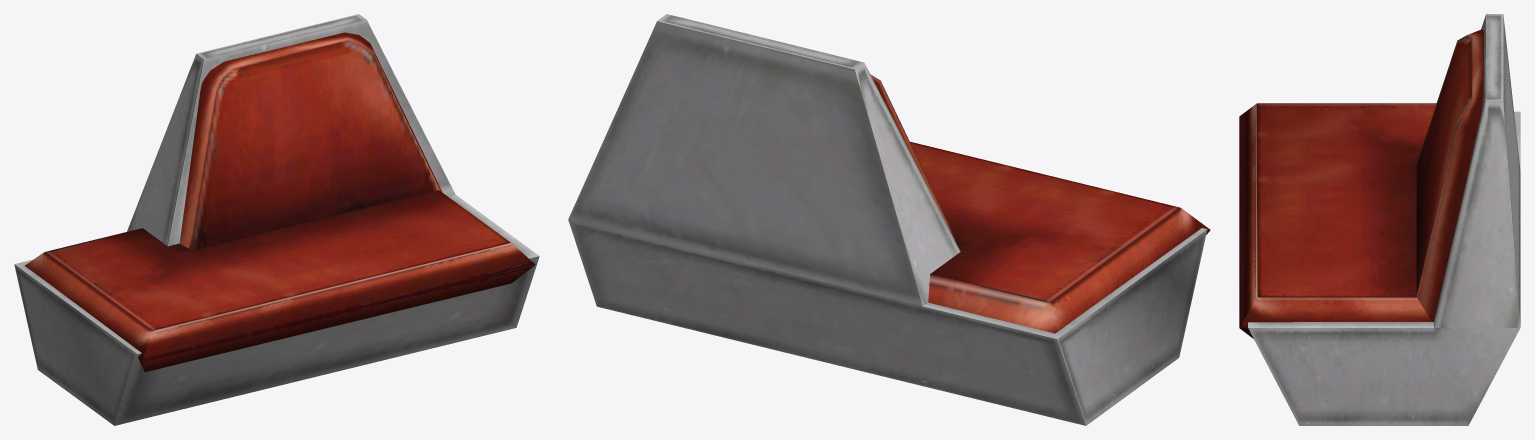
File: frn_all_plan_love_seat_s01_l0.fbx
The picture shows the model from 3 angles, left to right: view 1: azimuth 30°, elevation 25°; view 2: azimuth 150°, elevation 25°; view 3: azimuth 270°, elevation 25°; orthographic projection. The views are drawn at different scales.
Visible parts, largest first — view 1: mesh_node; view 2: mesh_node; view 3: mesh_node.
Boxes of the visible parts, x1,y1,x2,y2 form: mesh_node: [14, 14, 539, 425]; mesh_node: [568, 14, 1210, 425]; mesh_node: [1239, 14, 1520, 425].
Bounding box in the file's own units: 1.6 × 0.9996 × 0.8802.
